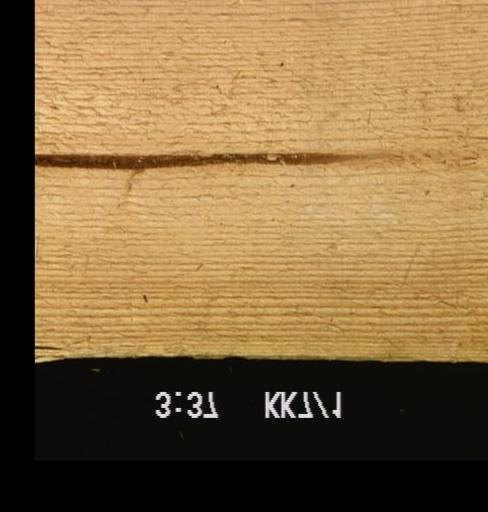split: (33, 341, 64, 351)
